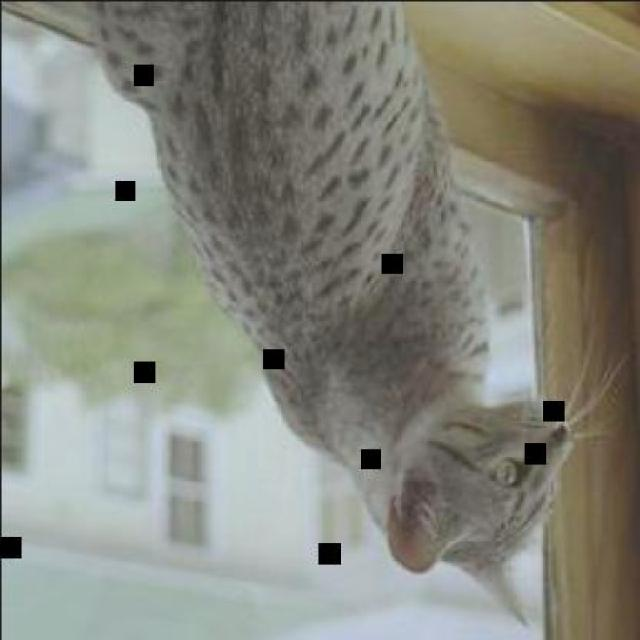unauthorized: (2, 0, 629, 626)
